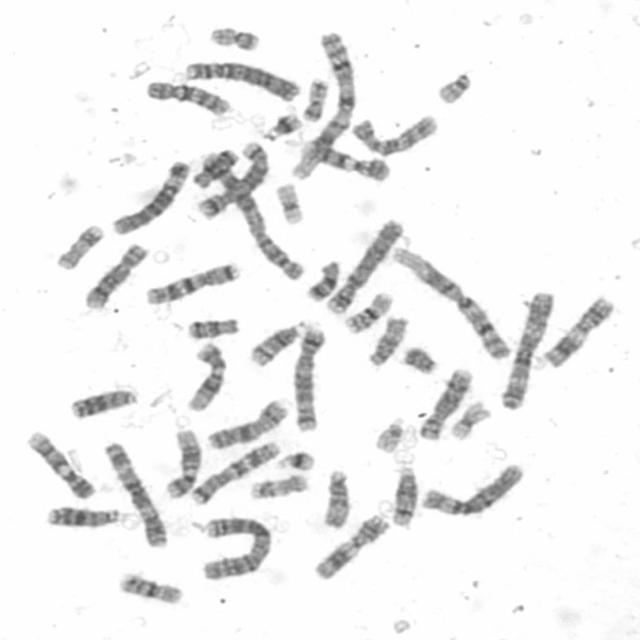A1: (386, 241, 514, 361), (285, 27, 359, 181)
A2: (193, 144, 307, 282), (194, 511, 274, 581)
A3: (97, 435, 170, 549), (495, 285, 557, 411)
B4: (321, 212, 406, 316), (178, 55, 302, 103)
B5: (192, 135, 272, 219), (287, 321, 328, 434)
C10: (344, 108, 441, 158), (140, 75, 233, 117)
C11: (534, 290, 616, 369), (306, 508, 391, 582)
C12: (180, 337, 228, 413), (159, 423, 202, 500)
C6: (104, 154, 192, 235), (414, 458, 526, 518)
C7: (184, 435, 283, 505), (138, 256, 242, 306)
C8: (77, 238, 150, 312), (412, 362, 475, 442)
C9: (21, 424, 97, 501), (296, 134, 394, 184)
D13: (64, 382, 141, 420), (41, 500, 126, 530)
D14: (242, 315, 310, 368), (385, 460, 420, 529)
D15: (360, 310, 410, 368), (315, 463, 352, 530)
E16: (112, 566, 185, 606), (338, 286, 395, 334)
E17: (50, 218, 106, 272), (244, 468, 312, 501)
E18: (300, 254, 343, 302), (180, 311, 242, 341)
F19: (444, 395, 492, 442), (270, 176, 307, 226)
F20: (203, 20, 262, 51), (296, 71, 331, 123)
G21: (256, 105, 303, 143), (270, 445, 316, 472)
G22: (367, 411, 408, 454), (430, 66, 474, 104)
X: (200, 392, 291, 450)
Y: (395, 340, 439, 376)
